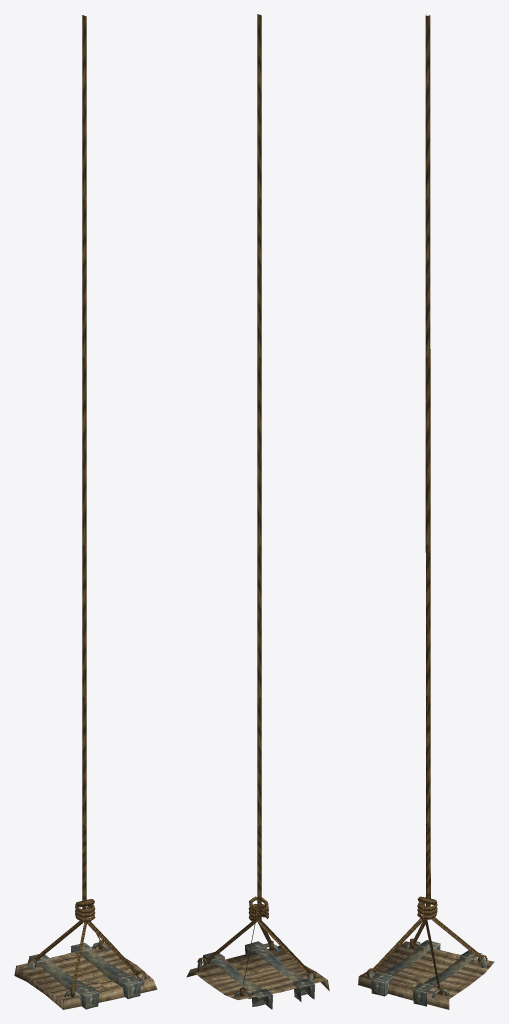
Rendered from S_Build_West070_1.FBX.
The picture shows the model from 3 angles, left to right: view 1: azimuth 30°, elevation 25°; view 2: azimuth 210°, elevation 25°; view 3: azimuth 330°, elevation 25°; orthographic projection.
Visible parts, largest first — view 1: S_Build_West070_1; view 2: S_Build_West070_1; view 3: S_Build_West070_1.
Part boxes in pixels (left/top/right/bottom): S_Build_West070_1: left=14, top=15, right=157, bottom=1009; S_Build_West070_1: left=186, top=14, right=329, bottom=1009; S_Build_West070_1: left=358, top=14, right=494, bottom=1009.
Size of the model in its own units: 235 by 246 by 2333.
